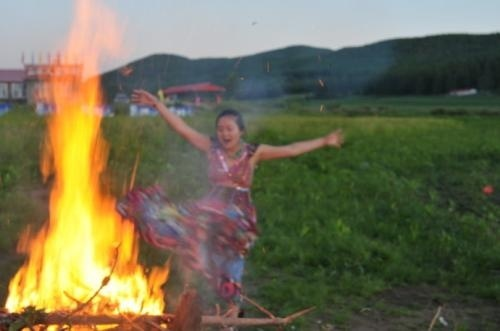fire: (13, 26, 166, 317)
